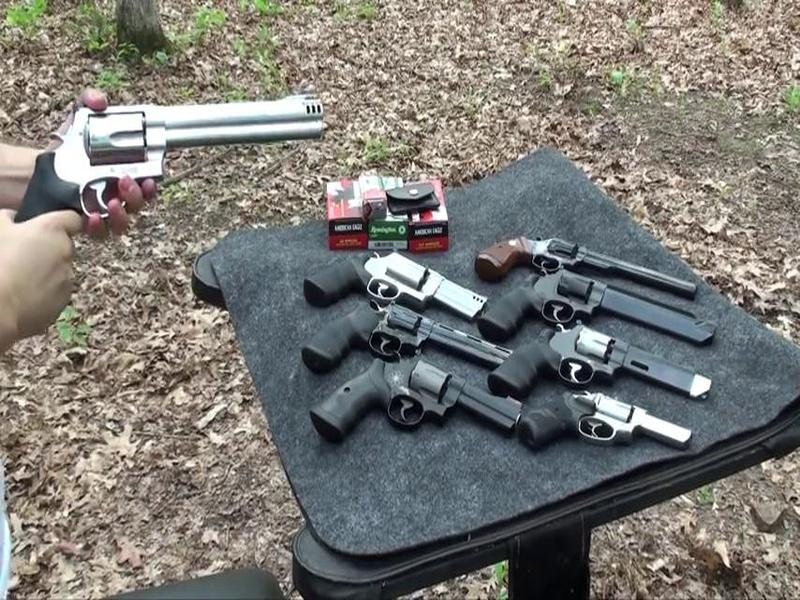Revolver: (34, 84, 329, 230), (473, 213, 704, 303), (329, 354, 521, 456), (287, 244, 481, 328)
